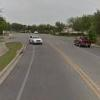Car: (27, 30, 43, 49)
